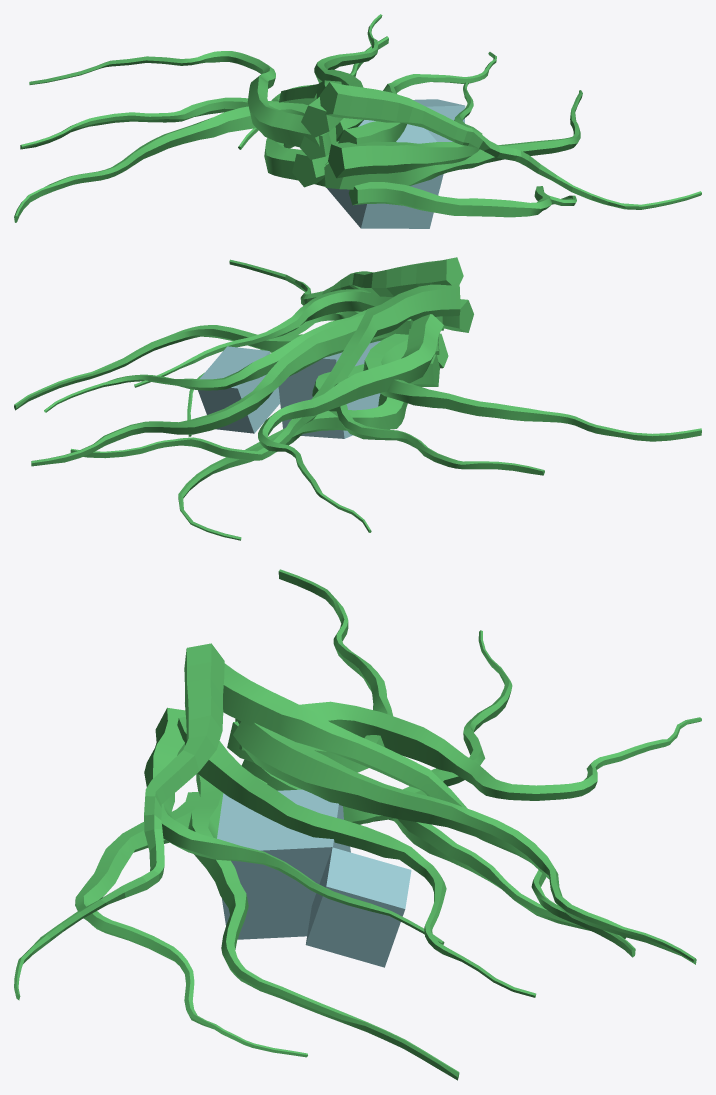
The model's file is roots_set_B.fbx.
3 renders of one model, top to bottom at view 1: azimuth 30°, elevation 25°; view 2: azimuth 150°, elevation 25°; view 3: azimuth 270°, elevation 25°, orthographic. The views are drawn at different scales.
Parts seen in each view (by area): view 1: roots_set_B_K, roots_set_B_M, roots_set_B_D, roots_set_B_I, roots_set_B_N, roots_set_B_H, roots_set_B_L, placeholders_cube_12, roots_set_B_B, roots_set_B_C, roots_set_B_A, roots_set_B_J (+1 smaller); view 2: roots_set_B_C, roots_set_B_A, roots_set_B_D, roots_set_B_M, roots_set_B_K, roots_set_B_I, roots_set_B_J, placeholders_cube_00, roots_set_B_L, roots_set_B_H, roots_set_B_B, placeholders_cube_12 (+1 smaller); view 3: roots_set_B_A, placeholders_cube_12, roots_set_B_C, roots_set_B_K, roots_set_B_B, placeholders_cube_00, roots_set_B_D, roots_set_B_H, roots_set_B_I, roots_set_B_N, roots_set_B_M, roots_set_B_J (+1 smaller).
Part boxes in pixels (x1,y1,x2,y2): roots_set_B_K: [319, 82, 701, 209]; roots_set_B_M: [14, 102, 335, 222]; roots_set_B_D: [29, 51, 336, 147]; roots_set_B_I: [328, 82, 482, 178]; roots_set_B_N: [348, 182, 576, 217]; roots_set_B_H: [324, 90, 582, 189]; roots_set_B_L: [20, 97, 338, 187]; placeholders_cube_12: [327, 120, 443, 228]; roots_set_B_B: [338, 52, 496, 144]; roots_set_B_C: [271, 36, 388, 137]; roots_set_B_A: [314, 14, 382, 141]; roots_set_B_J: [238, 128, 328, 186]; roots_set_B_C: [70, 282, 460, 460]; roots_set_B_A: [31, 314, 412, 466]; roots_set_B_D: [258, 314, 443, 532]; roots_set_B_M: [363, 333, 701, 441]; roots_set_B_K: [229, 257, 463, 305]; roots_set_B_I: [134, 289, 473, 387]; roots_set_B_J: [178, 393, 407, 540]; placeholders_cube_00: [198, 346, 280, 433]; roots_set_B_L: [312, 354, 544, 475]; roots_set_B_H: [14, 325, 448, 410]; roots_set_B_B: [44, 310, 444, 412]; placeholders_cube_12: [278, 341, 380, 438]; roots_set_B_A: [233, 721, 696, 964]; placeholders_cube_12: [217, 789, 350, 939]; roots_set_B_C: [223, 663, 635, 957]; roots_set_B_K: [14, 643, 224, 1000]; roots_set_B_B: [177, 716, 536, 997]; placeholders_cube_00: [305, 847, 411, 967]; roots_set_B_D: [235, 701, 701, 800]; roots_set_B_H: [188, 773, 459, 1080]; roots_set_B_I: [144, 707, 444, 944]; roots_set_B_N: [75, 792, 307, 1057]; roots_set_B_M: [227, 569, 392, 772]; roots_set_B_J: [255, 776, 625, 938].
Bounding box in the file's own units: 728 × 229 × 527.
